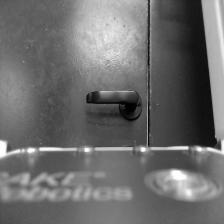Door Handle: (84, 75, 144, 127)
